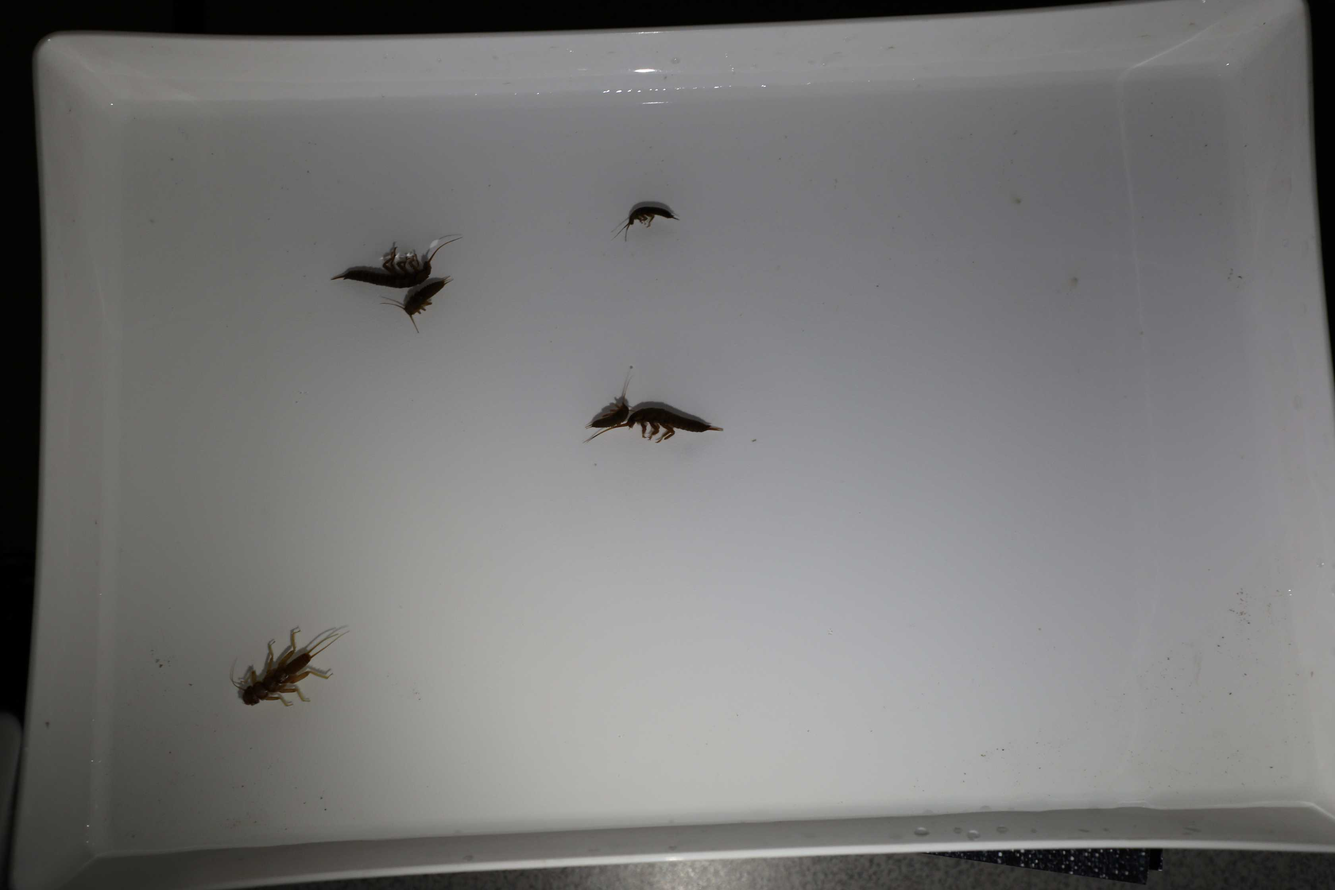Stonefly: (236, 623, 337, 715), (330, 238, 454, 291), (621, 403, 731, 451), (583, 360, 636, 434), (380, 281, 446, 340), (618, 198, 679, 248)
